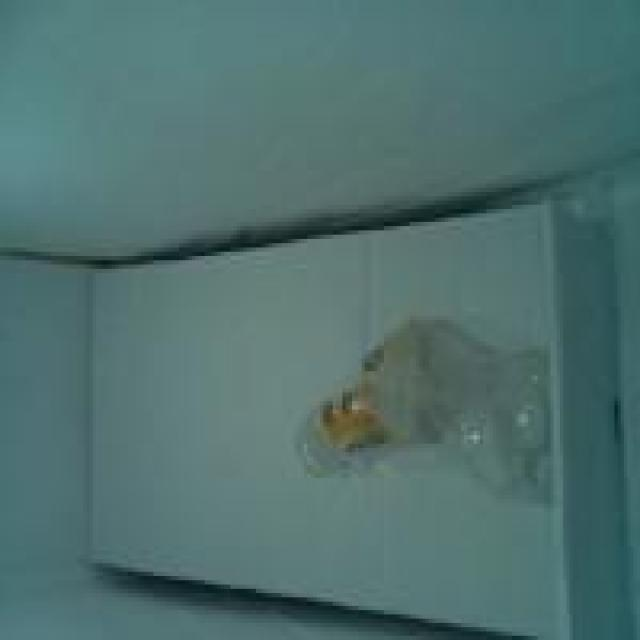bottle: (299, 324, 552, 499)
